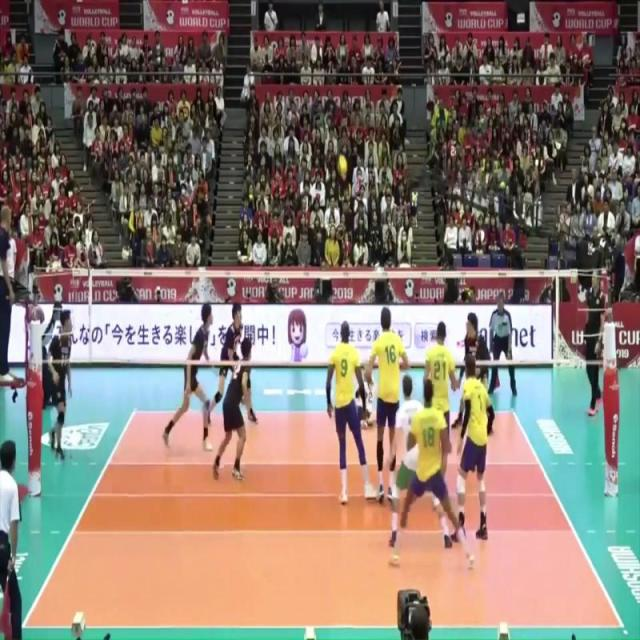volleyball: (336, 154, 350, 180)
